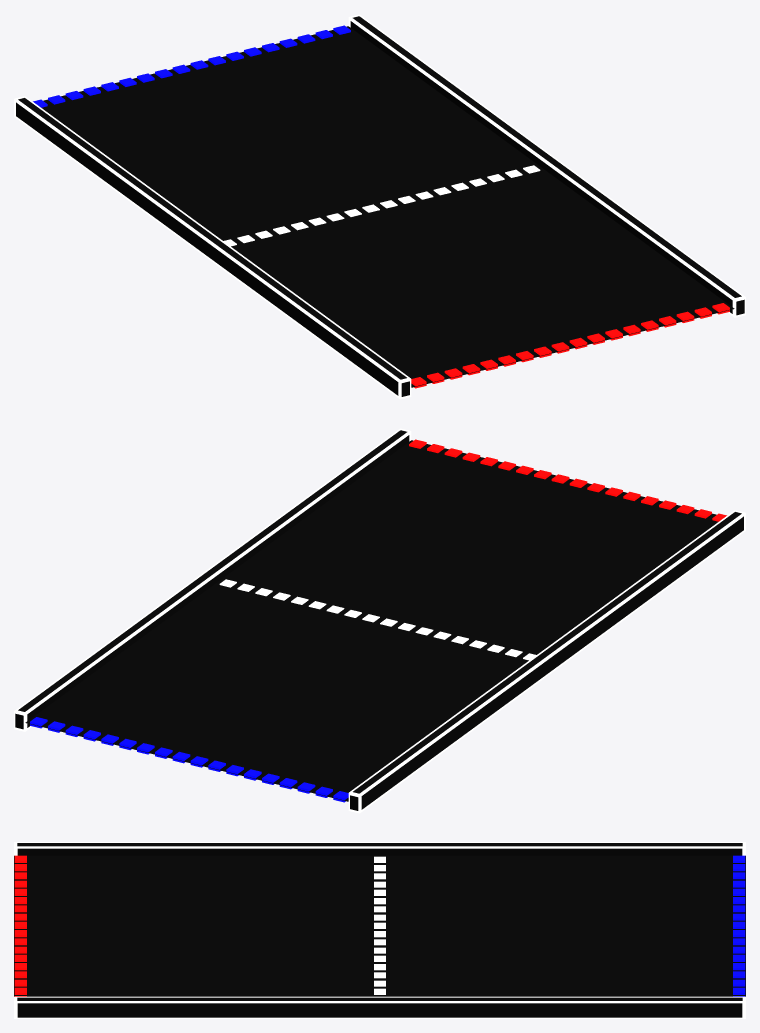
The model's file is game_ground.gltf.
The picture shows the model from 3 angles, top to bottom: view 1: azimuth 30°, elevation 25°; view 2: azimuth 150°, elevation 25°; view 3: azimuth 270°, elevation 25°; orthographic projection. The views are drawn at different scales.
Parts seen in each view (by area): view 1: Plane, border_1, border_1.001, Cube.003, Cube.001, middle; view 2: Plane, border_1, border_1.001, Cube.001, Cube.003, middle; view 3: Plane, border_1.001, border_1, Cube.003, Cube.001, middle.
Part boxes in pixels (x1=…): Plane: x1=41, y1=26, x2=734, y2=387; border_1: x1=14, y1=96, x2=411, y2=399; border_1.001: x1=348, y1=14, x2=745, y2=317; Cube.003: x1=411, y1=303, x2=729, y2=388; Cube.001: x1=33, y1=25, x2=350, y2=107; middle: x1=223, y1=165, x2=540, y2=246; Plane: x1=25, y1=440, x2=718, y2=801; border_1: x1=348, y1=510, x2=745, y2=813; border_1.001: x1=14, y1=428, x2=411, y2=731; Cube.001: x1=30, y1=717, x2=348, y2=802; Cube.003: x1=409, y1=439, x2=726, y2=521; middle: x1=219, y1=579, x2=536, y2=660; Plane: x1=14, y1=855, x2=745, y2=996; border_1.001: x1=14, y1=996, x2=745, y2=1018; border_1: x1=14, y1=842, x2=745, y2=855; Cube.003: x1=14, y1=855, x2=26, y2=996; Cube.001: x1=733, y1=855, x2=745, y2=996; middle: x1=374, y1=856, x2=385, y2=994.
Bounding box in the file's own units: 6.2 × 0.3097 × 12.
